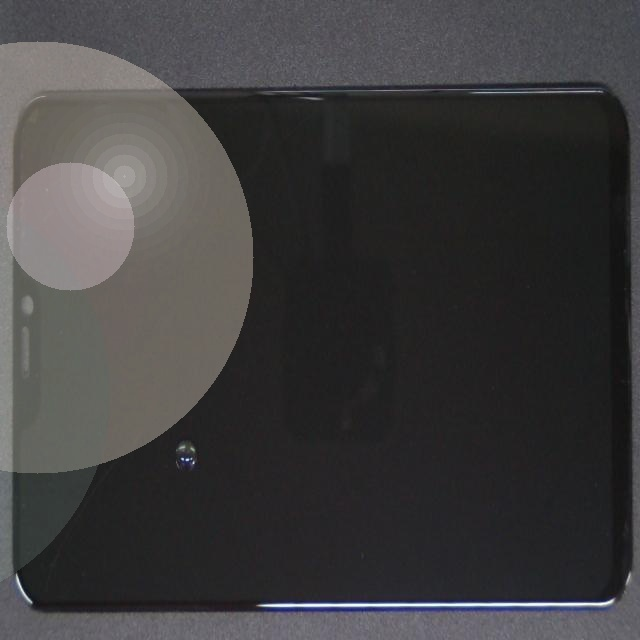oil: (86, 184, 258, 640)
